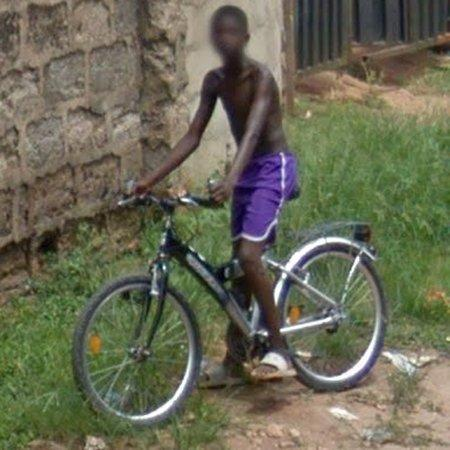bicycles: (74, 194, 269, 424), (264, 226, 388, 392)
